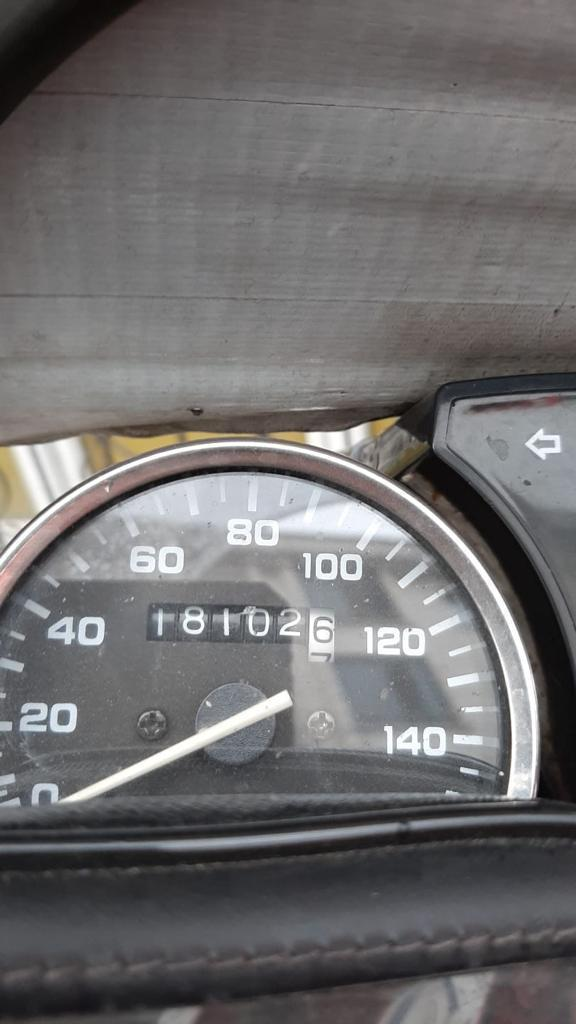0: (247, 605, 272, 641)
1: (218, 605, 237, 649), (151, 604, 166, 645)
2: (277, 605, 303, 640)
6: (311, 609, 335, 647)
8: (180, 602, 206, 636)
odometer: (142, 599, 338, 666)
